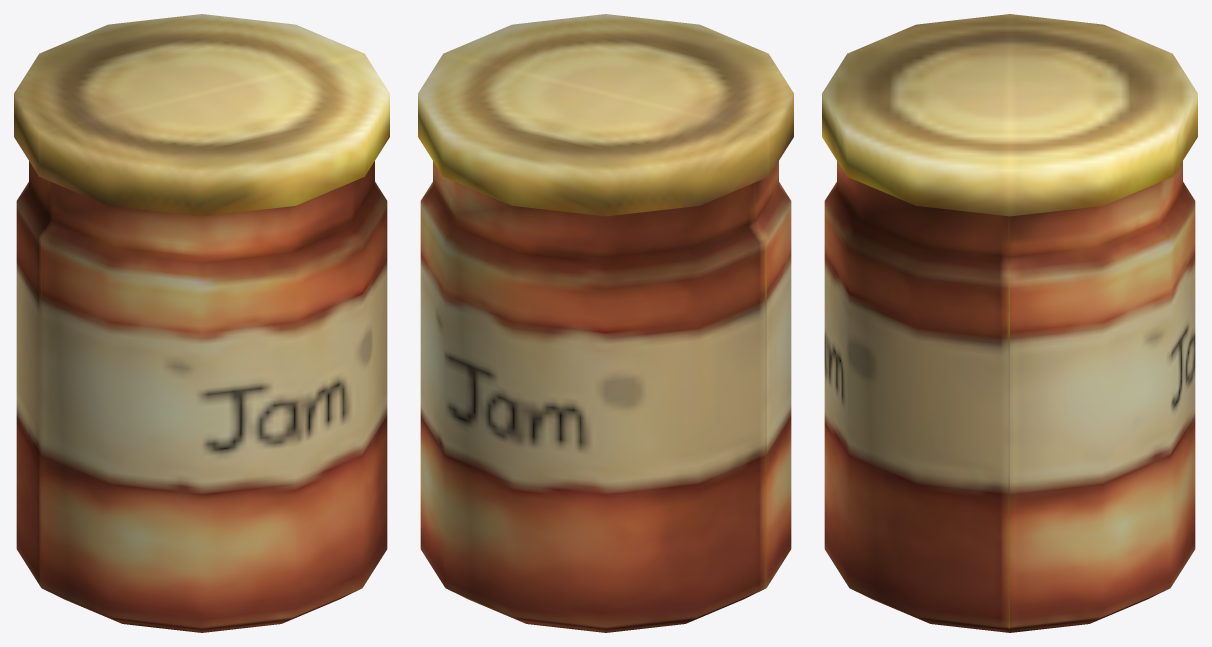
Rendered from SM_bank_02.gltf.
3 renders of one model, left to right at view 1: azimuth 30°, elevation 25°; view 2: azimuth 150°, elevation 25°; view 3: azimuth 270°, elevation 25°, orthographic.
Parts seen in each view (by area): view 1: SM_bank_02; view 2: SM_bank_02; view 3: SM_bank_02.
Boxes of the visible parts, <box> form: SM_bank_02: <box>14,14,389,632</box>; SM_bank_02: <box>418,14,793,632</box>; SM_bank_02: <box>822,14,1197,632</box>.
Size of the model in its own units: 0.1688 by 0.234 by 0.1688.
1 material, 1 textured.
